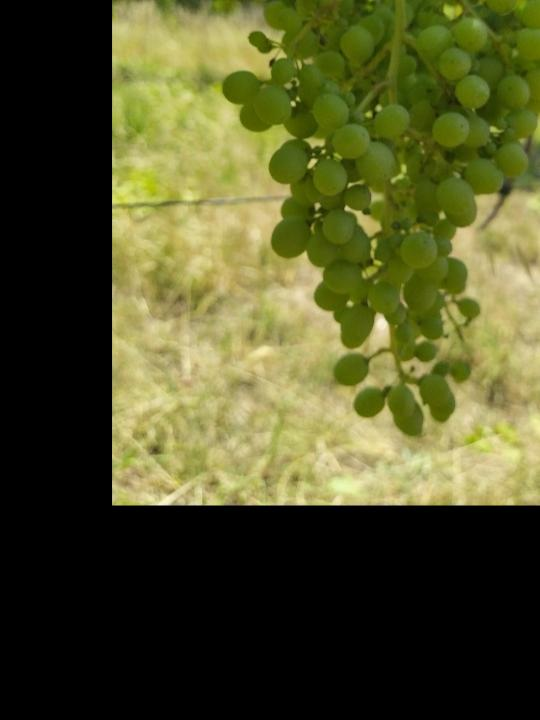grape: (221, 0, 540, 440)
